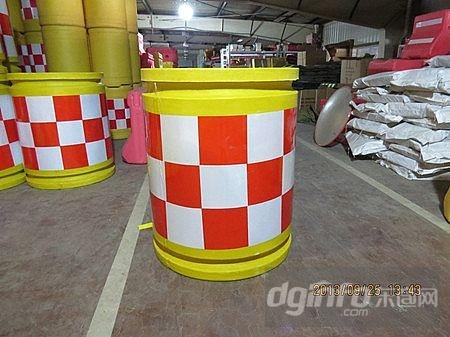cone_barrel: (137, 66, 299, 282), (5, 69, 116, 189)
